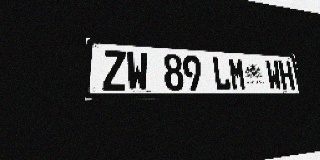8: (163, 53, 184, 91)
9: (182, 55, 203, 91)
H: (278, 60, 295, 90)
L: (212, 56, 231, 90)
M: (228, 57, 247, 90)
W: (126, 51, 149, 91), (265, 60, 283, 90)
Z: (103, 50, 126, 91)
